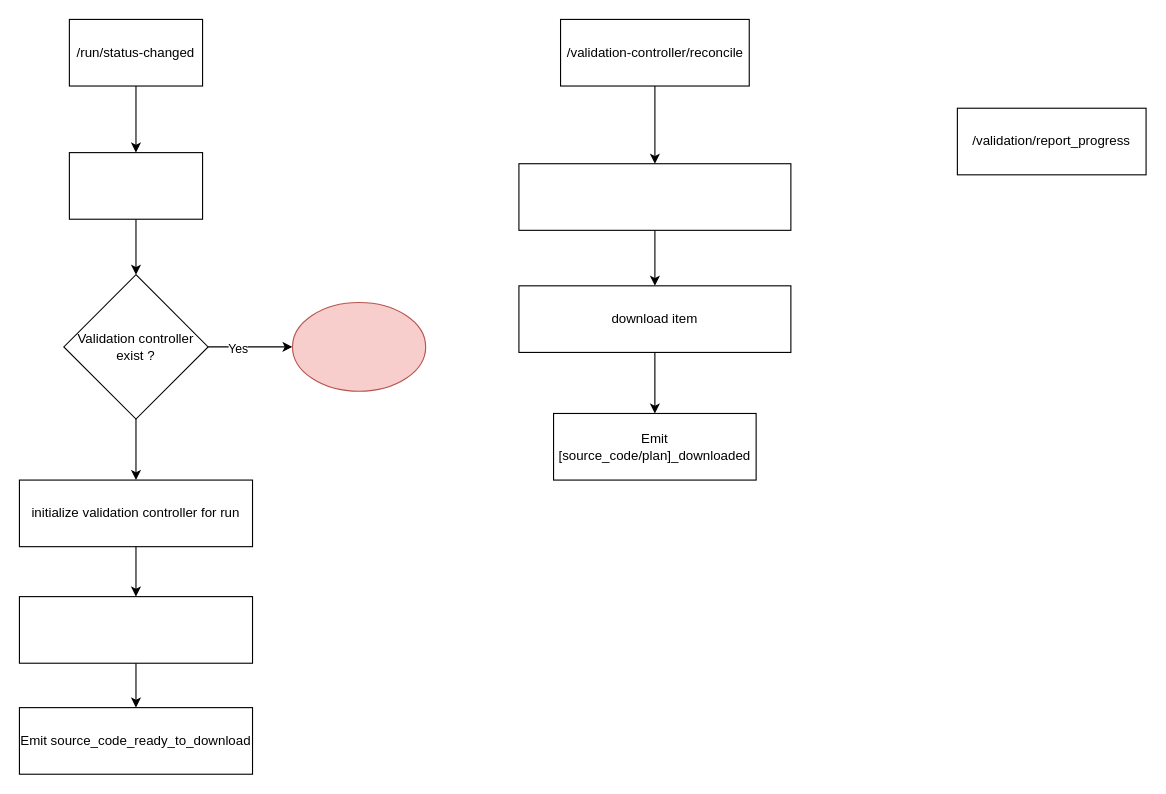
This 1166x794 diagram has some shape labels left out. The centre of each missing label's shape, as x and y in pixels:
"[source_code/plan]_ready_to_download" belongs at point 654,196.
"Emit plan_ready_to_download" belongs at point 135,629.
"Run status changed received (pending_validation)" belongs at point 135,185.
"STOP" belongs at point 358,346.
